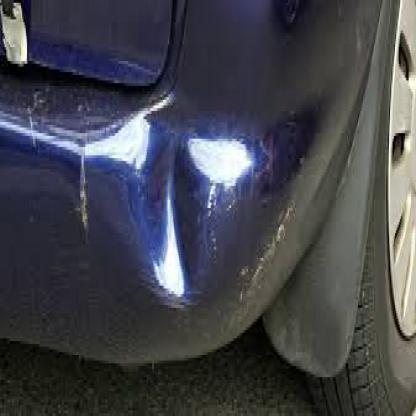dent: (92, 92, 259, 324), (74, 133, 92, 272)
